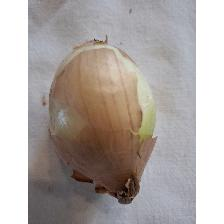Zwiebel: (46, 37, 160, 207)
